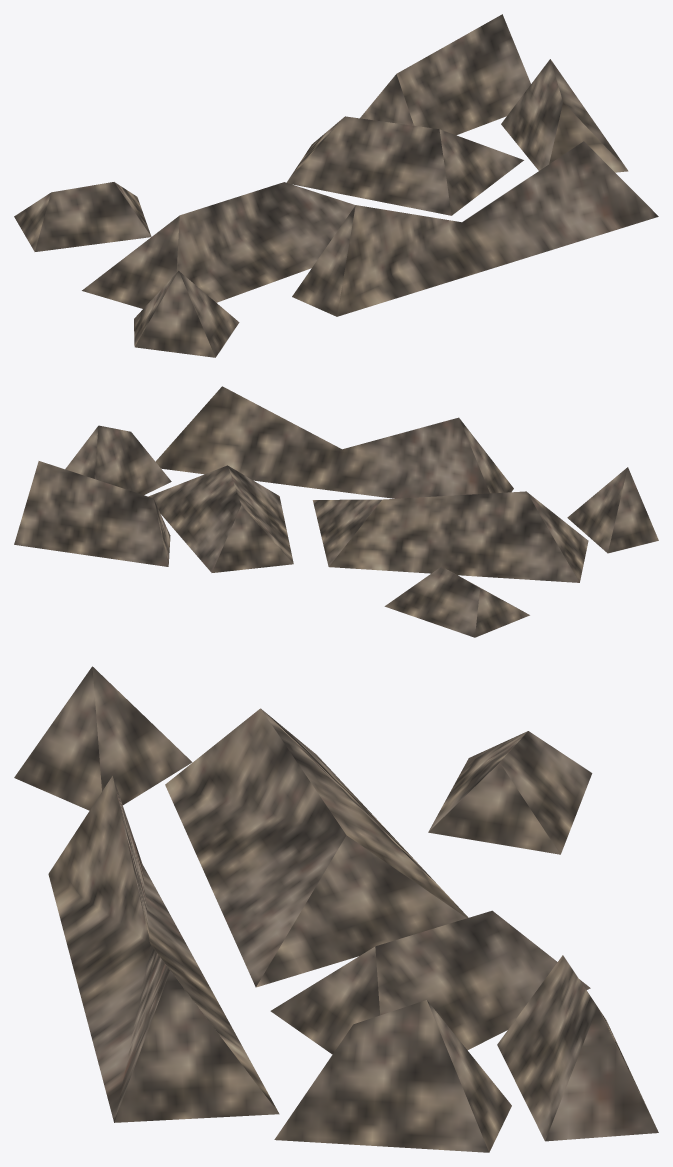
Rendered from rock_vclump3.glb.
3 renders of one model, top to bottom at view 1: azimuth 30°, elevation 25°; view 2: azimuth 150°, elevation 25°; view 3: azimuth 270°, elevation 25°, orthographic. The views are drawn at different scales.
Visible parts, largest first — view 1: Rock_VClump3; view 2: Rock_VClump3; view 3: Rock_VClump3.
Part boxes in pixels (x1=…): Rock_VClump3: x1=14, y1=14, x2=658, y2=357; Rock_VClump3: x1=14, y1=386, x2=658, y2=637; Rock_VClump3: x1=14, y1=666, x2=658, y2=1152.
Bounding box in the file's own units: 24.89 × 3.6 × 16.5.
1 material, 1 textured.
